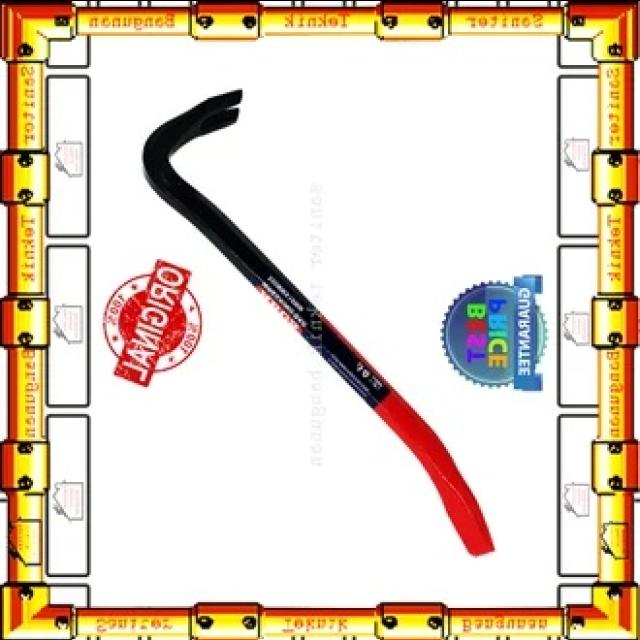Linggis: (140, 88, 495, 555)
